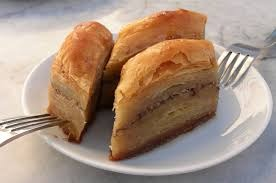baklava: (110, 39, 218, 159), (100, 9, 206, 105), (47, 21, 113, 141)
